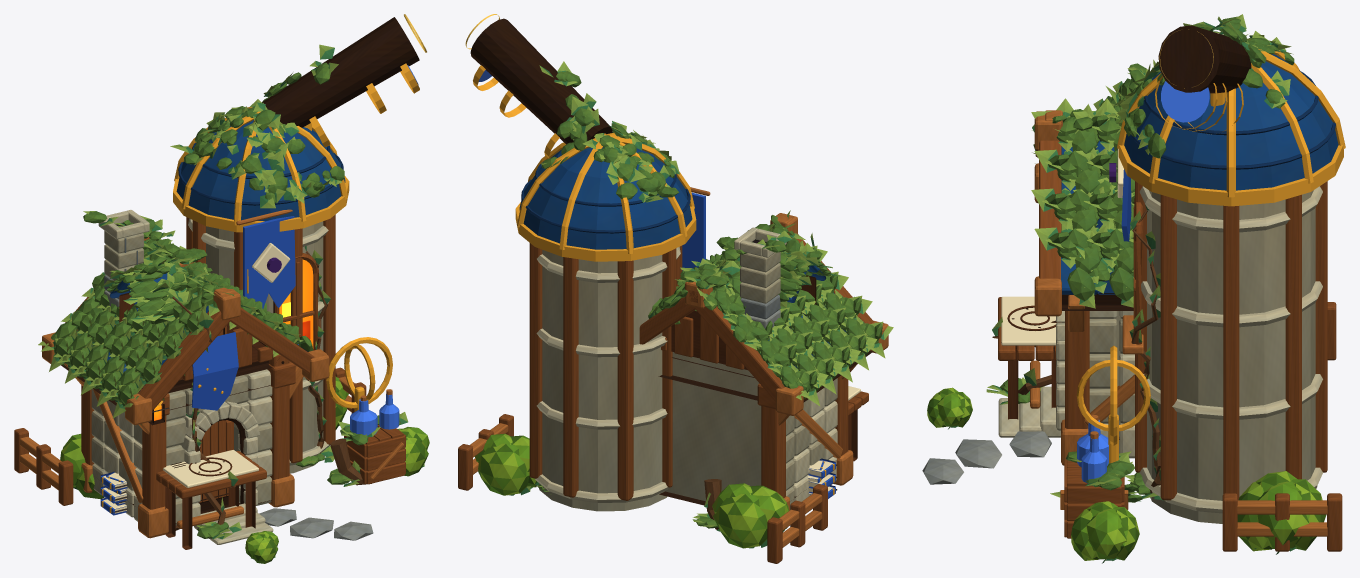
Rendered from research_tower.glb.
The picture shows the model from 3 angles, left to right: view 1: azimuth 30°, elevation 25°; view 2: azimuth 150°, elevation 25°; view 3: azimuth 270°, elevation 25°; orthographic projection. The views are drawn at different scales.
Parts seen in each view (by area): view 1: Runtime surface 014, Runtime surface 013, Runtime surface 020, Runtime surface 017, Runtime surface 006, Runtime surface 040, Runtime surface 015, Runtime surface 025, Runtime surface 004, Runtime surface 001, Runtime surface 039, Runtime surface 012 (+14 smaller); view 2: Runtime surface 020, Runtime surface 014, Runtime surface 013, Runtime surface 025, Runtime surface 017, Runtime surface 006, Runtime surface 040, Runtime surface 001, Runtime surface 015, Runtime surface 012, Runtime surface 039, Runtime surface 034 (+9 smaller); view 3: Runtime surface 020, Runtime surface 014, Runtime surface 025, Runtime surface 017, Runtime surface 013, Runtime surface 001, Runtime surface 015, Runtime surface 006, Runtime surface 040, Runtime surface 012, Runtime surface 034, Runtime surface 035 (+13 smaller).
Part boxes in pixels (<box>): Runtime surface 014: <box>14,214,366,509</box>; Runtime surface 013: <box>51,238,401,445</box>; Runtime surface 020: <box>91,221,324,525</box>; Runtime surface 017: <box>98,210,329,544</box>; Runtime surface 006: <box>61,17,419,523</box>; Runtime surface 040: <box>83,62,350,538</box>; Runtime surface 015: <box>20,209,392,538</box>; Runtime surface 025: <box>107,120,345,365</box>; Runtime surface 004: <box>100,216,295,514</box>; Runtime surface 001: <box>101,63,419,513</box>; Runtime surface 039: <box>83,44,361,538</box>; Runtime surface 012: <box>38,238,424,556</box>; Runtime surface 020: <box>539,250,837,511</box>; Runtime surface 014: <box>458,232,873,563</box>; Runtime surface 013: <box>648,215,882,399</box>; Runtime surface 025: <box>519,144,834,356</box>; Runtime surface 017: <box>535,227,837,502</box>; Runtime surface 006: <box>470,18,873,505</box>; Runtime surface 040: <box>537,71,824,528</box>; Runtime surface 001: <box>473,65,834,494</box>; Runtime surface 015: <box>470,187,888,547</box>; Runtime surface 012: <box>514,210,893,547</box>; Runtime surface 039: <box>535,61,841,526</box>; Runtime surface 034: <box>474,434,788,548</box>; Runtime surface 020: <box>1089,190,1317,523</box>; Runtime surface 014: <box>998,140,1342,551</box>; Runtime surface 025: <box>1061,54,1338,294</box>; Runtime surface 017: <box>998,33,1323,513</box>; Runtime surface 013: <box>1045,72,1159,502</box>; Runtime surface 001: <box>1108,49,1345,463</box>; Runtime surface 015: <box>1030,93,1327,536</box>; Runtime surface 006: <box>1012,25,1251,439</box>; Runtime surface 040: <box>1000,16,1294,494</box>; Runtime surface 012: <box>949,59,1296,561</box>; Runtime surface 034: <box>927,387,1324,560</box>; Runtime surface 035: <box>927,389,1326,560</box>.
Bounding box in the file's own units: 4.66 × 5.3 × 3.64.
40 materials, 30 textured.
